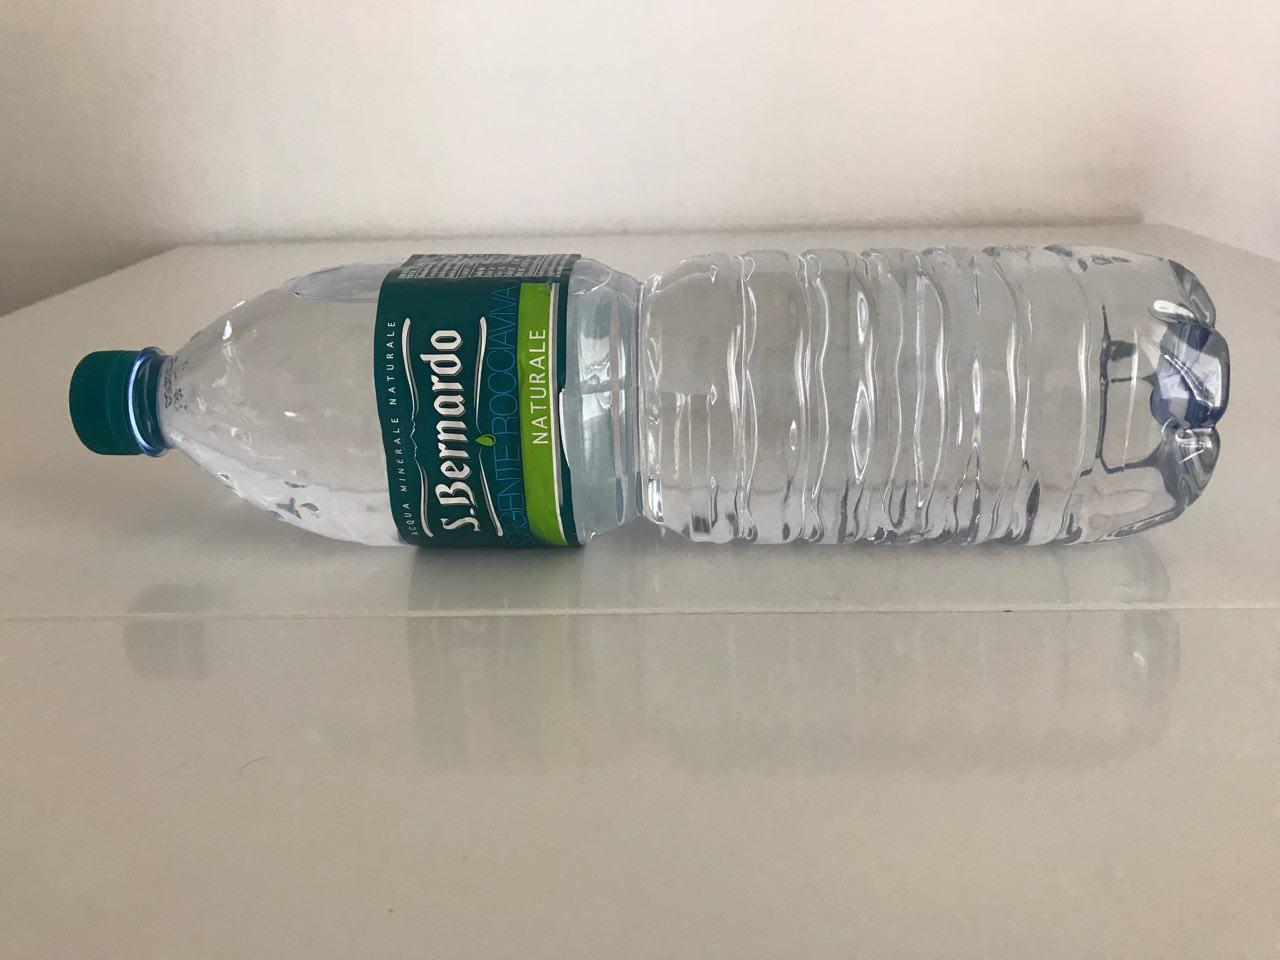san_bernardo: (68, 240, 1232, 554)
